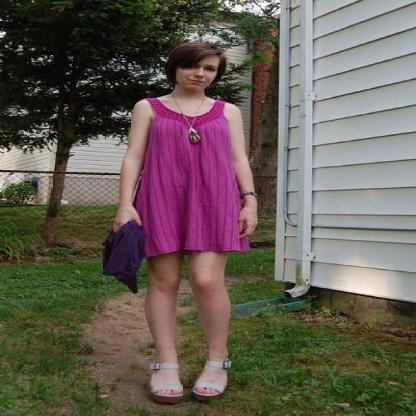dress: (127, 96, 253, 256)
shoe: (150, 361, 226, 396)
